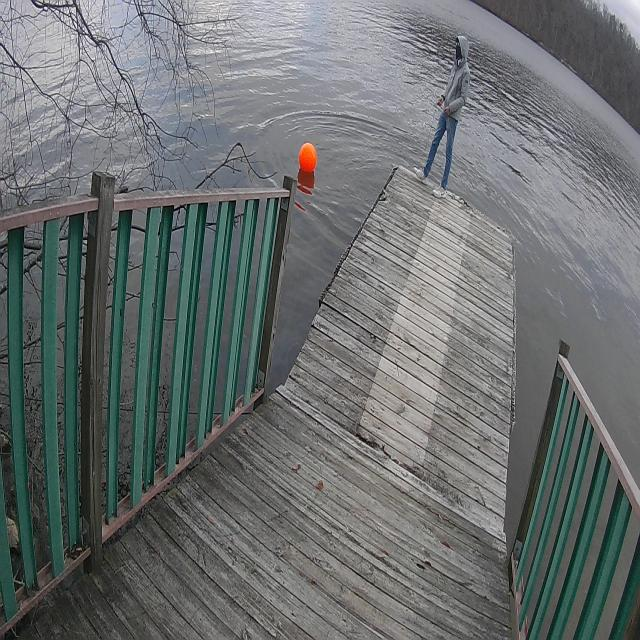Buoy: (298, 141, 318, 178)
